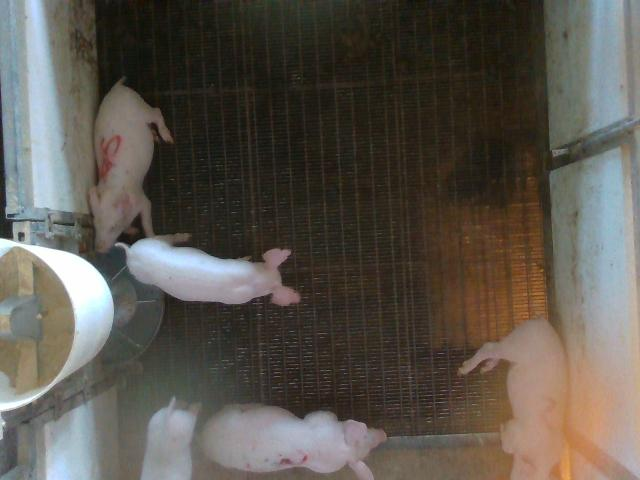pig-2: (459, 318, 568, 478)
pig-3: (201, 404, 386, 478)
pig-5: (89, 78, 174, 251)
